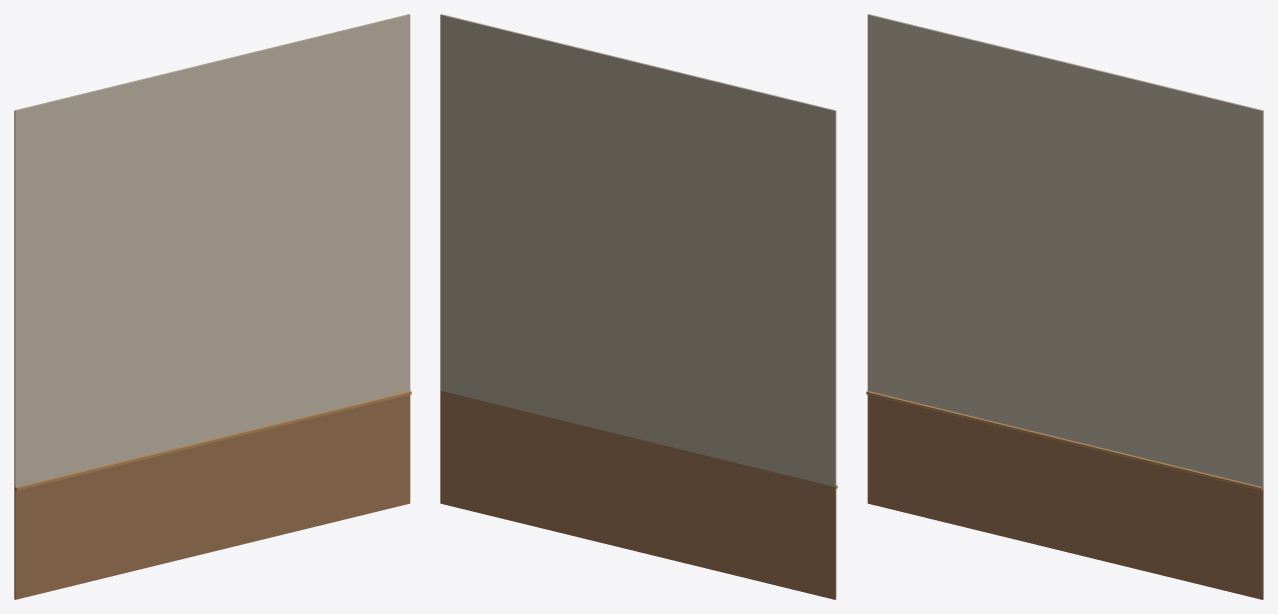
File: room_wall.glb
3 renders of one model, left to right at view 1: azimuth 30°, elevation 25°; view 2: azimuth 150°, elevation 25°; view 3: azimuth 330°, elevation 25°, orthographic.
Visible parts, largest first — view 1: body_nl, body; view 2: body_nl; view 3: body_nl, body.
Boxes of the visible parts, x1,y1,x2,y2 form: body_nl: (14, 14, 410, 599); body: (15, 391, 411, 490); body_nl: (440, 14, 836, 599); body_nl: (867, 14, 1263, 599); body: (866, 391, 1263, 490).
Size of the model in its own units: 220 by 260 by 2.3.
